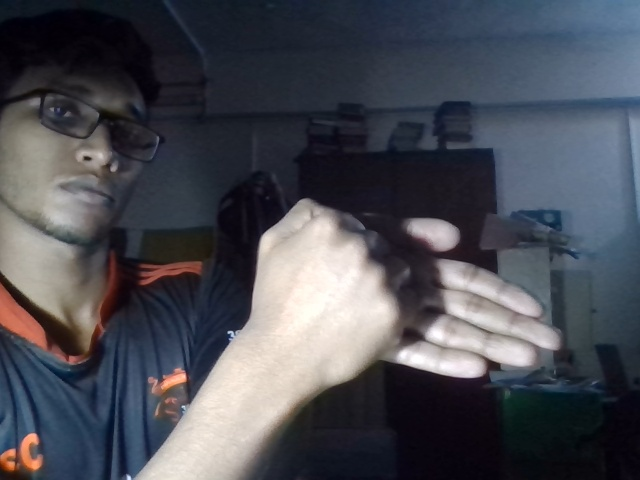b: (244, 196, 568, 407)
